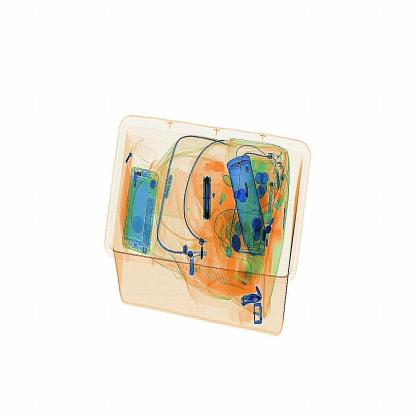scissors: (196, 164, 218, 230)
